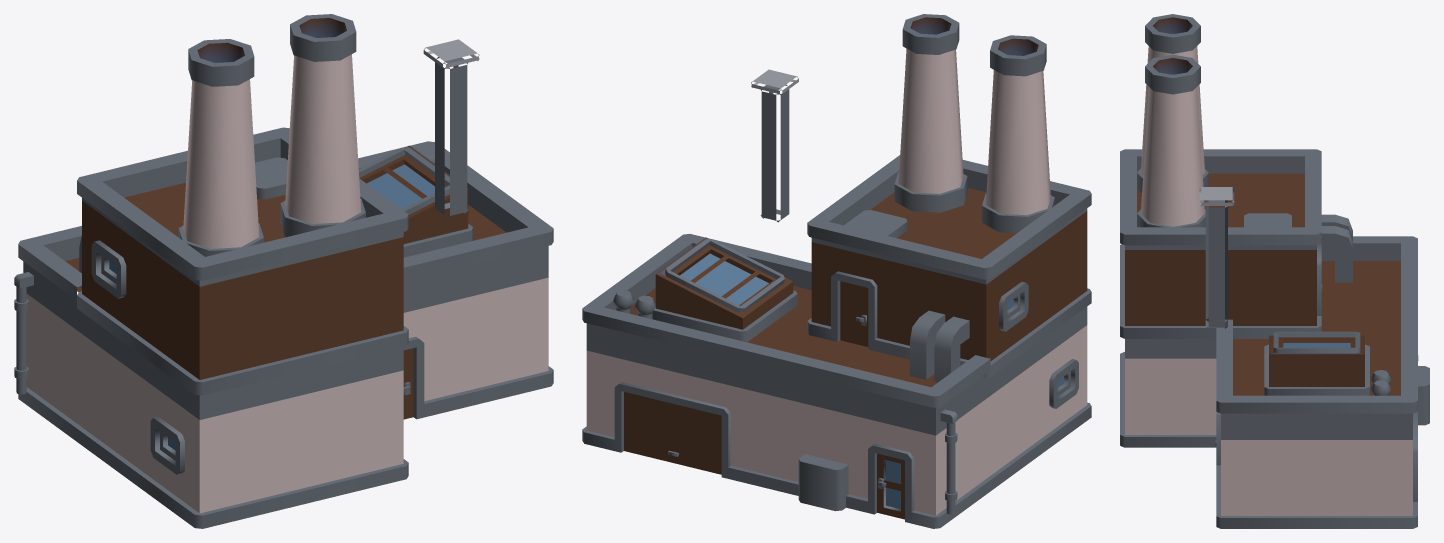
File: factory-b.glb
3 views of the same model, side by side, from view 1: azimuth 30°, elevation 25°; view 2: azimuth 150°, elevation 25°; view 3: azimuth 270°, elevation 25° (orthographic). The views are drawn at different scales.
Parts seen in each view (by area): view 1: factory-b; view 2: factory-b; view 3: factory-b.
Boxes of the visible parts, x1=… form: factory-b: x1=14, y1=14, x2=553, y2=528; factory-b: x1=582, y1=14, x2=1091, y2=528; factory-b: x1=1120, y1=14, x2=1429, y2=528.
Bounding box in the file's own units: 0.9 × 0.8821 × 0.6896.
